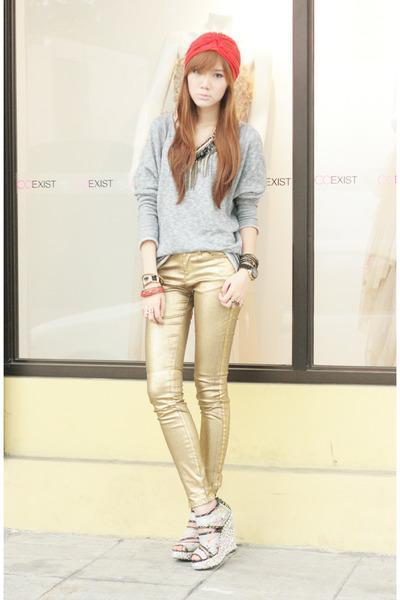hat: (188, 32, 240, 83)
pants: (140, 240, 247, 512)
shirt: (135, 116, 272, 265)
shoe: (175, 497, 240, 577)
